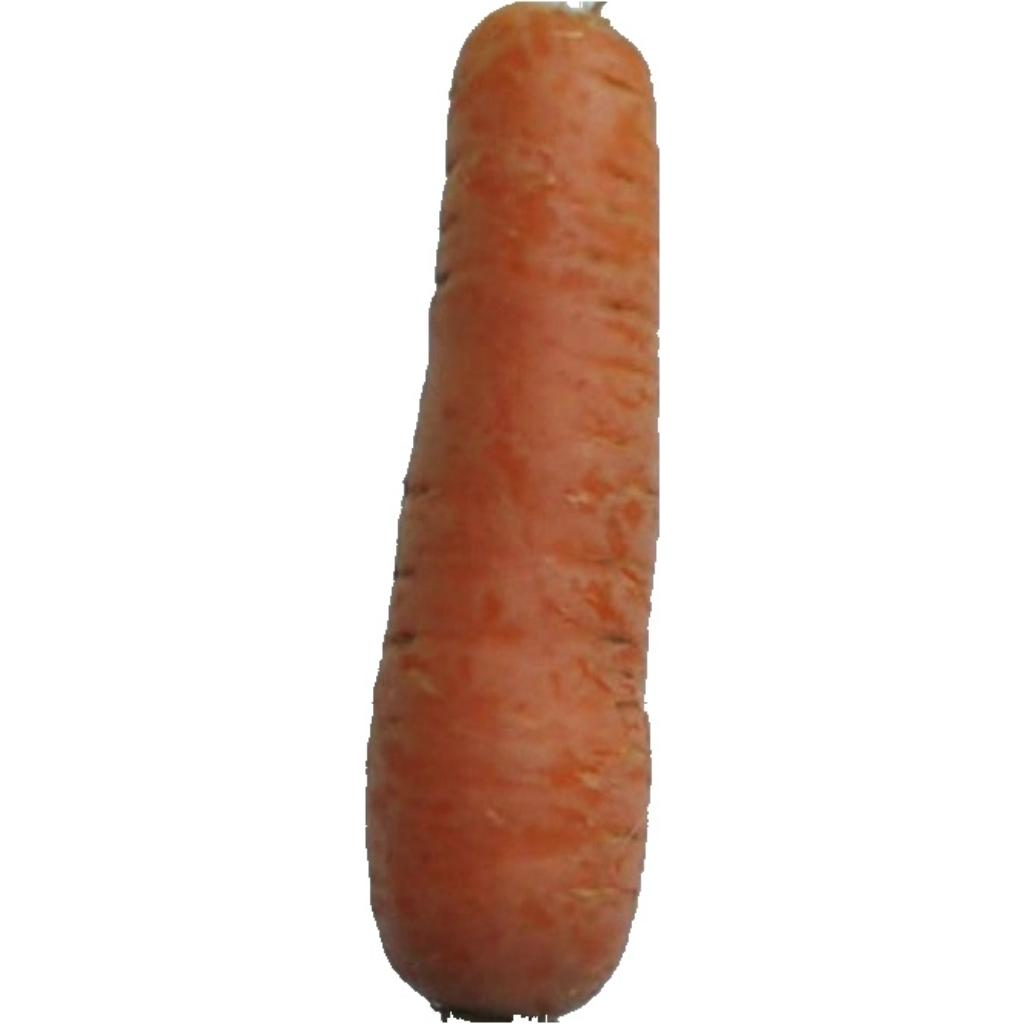carrot: (367, 4, 655, 1020)
